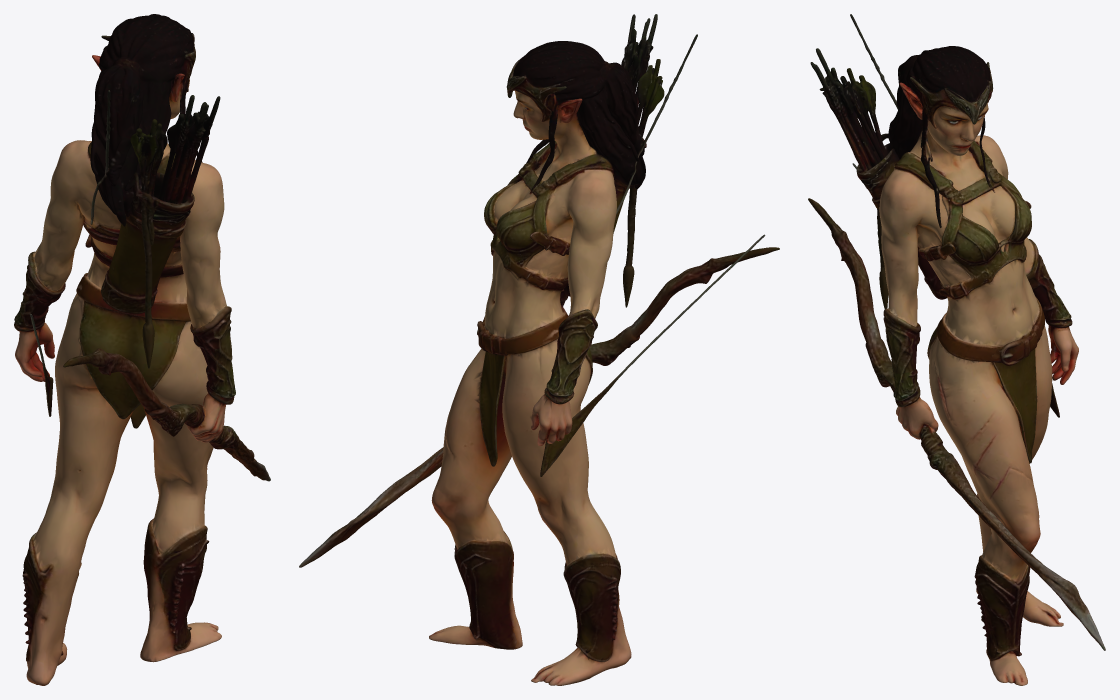
Rendered from aiprintgen_Elf Archeress with Bow and Arrow-preview.glb.
3 views of the same model, side by side, from view 1: azimuth 30°, elevation 25°; view 2: azimuth 150°, elevation 25°; view 3: azimuth 270°, elevation 25° (orthographic). The views are drawn at different scales.
Visible parts, largest first — view 1: aiprintgen_node_34f9a248-86eb-4716-bdad-9594f995bfdf; view 2: aiprintgen_node_34f9a248-86eb-4716-bdad-9594f995bfdf; view 3: aiprintgen_node_34f9a248-86eb-4716-bdad-9594f995bfdf.
Part boxes in pixels (left/top/right/bottom): aiprintgen_node_34f9a248-86eb-4716-bdad-9594f995bfdf: left=14, top=14, right=270, bottom=685; aiprintgen_node_34f9a248-86eb-4716-bdad-9594f995bfdf: left=299, top=14, right=779, bottom=685; aiprintgen_node_34f9a248-86eb-4716-bdad-9594f995bfdf: left=808, top=14, right=1105, bottom=685.
Bounding box in the file's own units: 0.6047 × 1 × 0.4596.
Materials: 1 (1 with a texture image).
